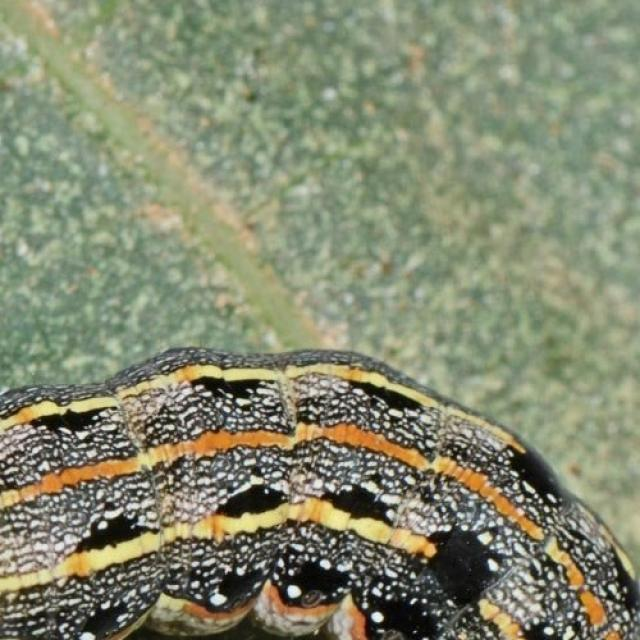armyworm: (0, 344, 639, 639)
